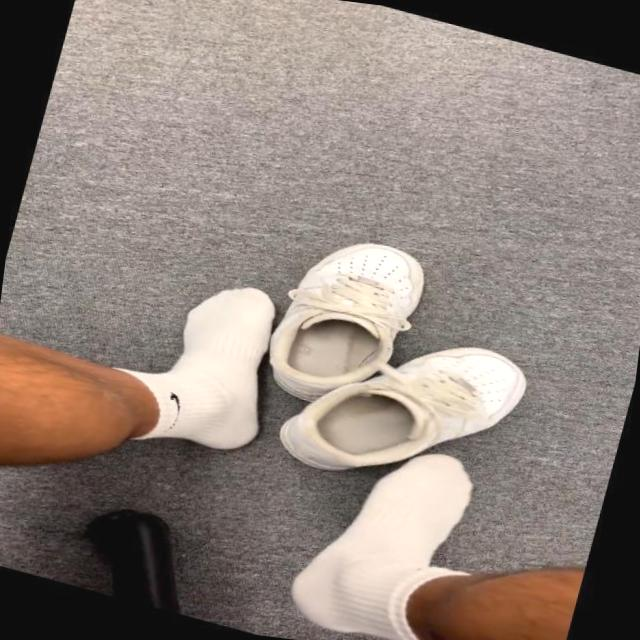nike_original_airforce: (262, 301, 544, 529), (246, 214, 443, 426)
